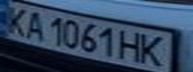0: (60, 17, 81, 51)
1: (42, 15, 66, 46), (97, 25, 118, 57)
6: (78, 21, 100, 54)
A: (18, 10, 48, 40)
H: (118, 28, 145, 63)
K: (136, 33, 169, 69), (0, 4, 33, 36)
